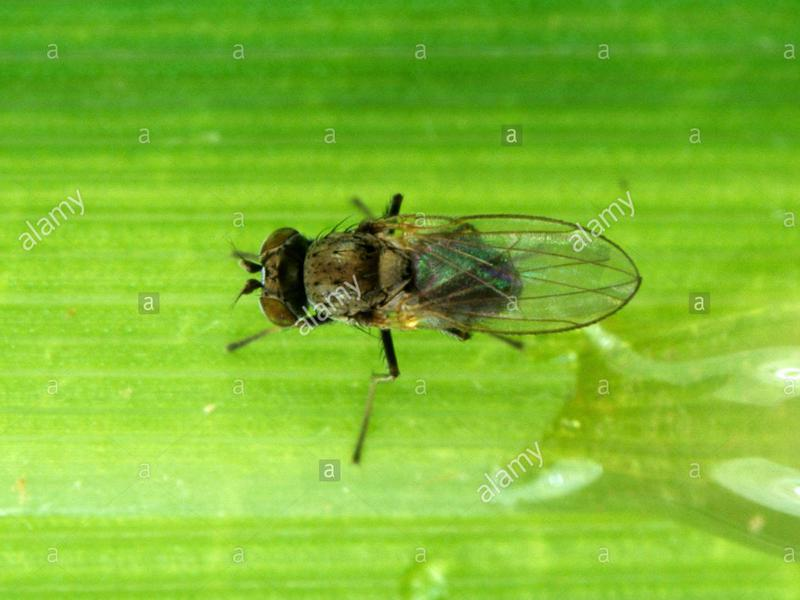Whorl_maggot: (227, 196, 654, 367)
